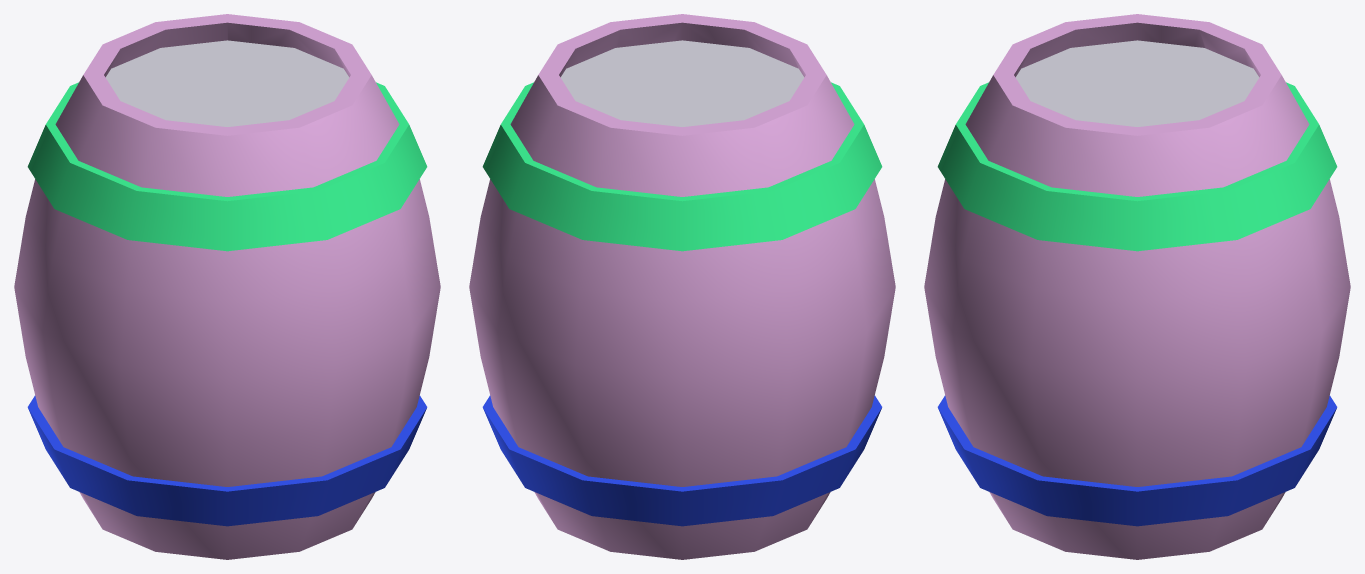
3 renders of one model, left to right at view 1: azimuth 30°, elevation 25°; view 2: azimuth 150°, elevation 25°; view 3: azimuth 270°, elevation 25°, orthographic.
Bounding box in the file's own units: 0.9116 × 1 × 0.9116.
